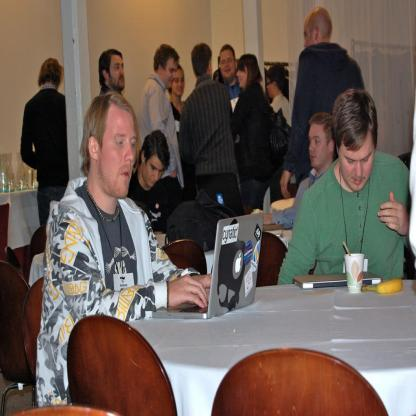board: (150, 209, 263, 319), (195, 170, 246, 216), (292, 270, 383, 291)
